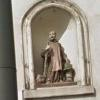Statue: (34, 19, 81, 87)
